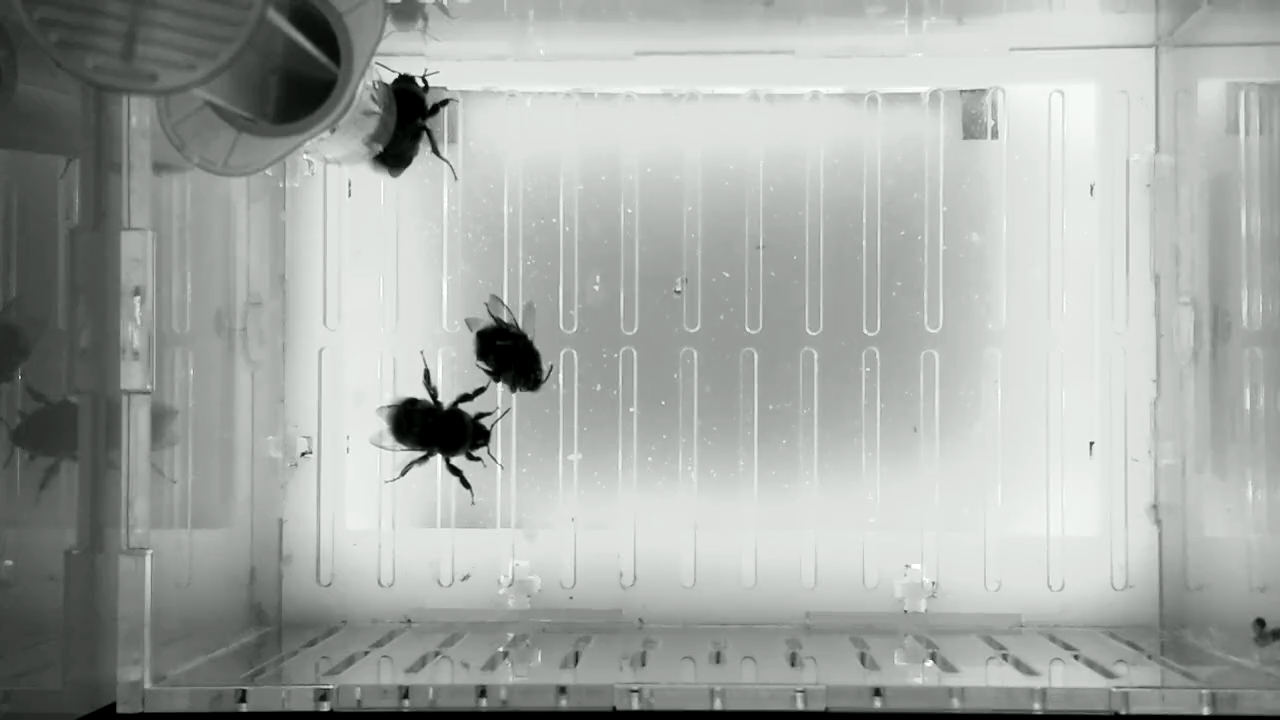bee_alive: (365, 347, 515, 508), (366, 58, 464, 184)
bee_dead: (462, 291, 555, 398)
feeder: (297, 62, 400, 170)
